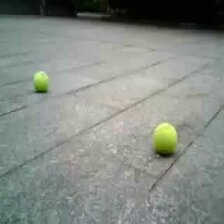tennis: (152, 124, 177, 155), (33, 71, 49, 91)
